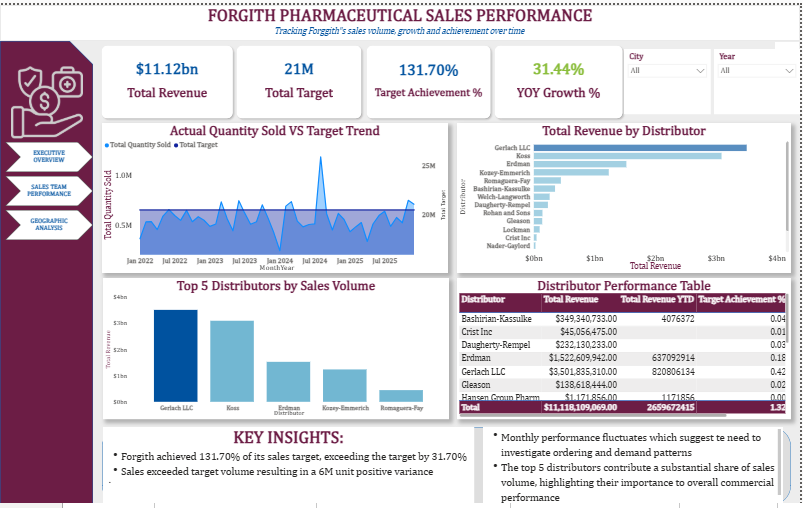

This screenshot's page, from the dashboard's own definition file:
{"tool":"powerbi","page":{"name":"SALES PERFORMANCE","canvas":[2000,1250],"ordinal":1},"visuals":[{"type":"textbox","box":[0,0,2000,90],"z":0},{"type":"shape","box":[0,90,232.5,1160],"z":1000},{"type":"pageNavigator","box":[12.5,342.5,220,245],"z":2000},{"type":"cardVisual","fields":{"Data":["MEASURES OVERVIEW.Total Revenue"]},"box":[224,72,386,240],"z":3000},{"type":"cardVisual","fields":{"Data":["MEASURES OVERVIEW.Total Target"]},"box":[562,72,370,240],"z":4000},{"type":"cardVisual","fields":{"Data":["MEASURES OVERVIEW.YOY Growth %"]},"box":[1208,72,378,240],"z":5000},{"type":"cardVisual","fields":{"Data":["MEASURES OVERVIEW.Target Achievement %"]},"box":[888,72,368,240],"z":6000},{"type":"lineChart","title":"Actual Quantity Sold VS Target Trend","fields":{"Category":["Sales Fact Table.MonthYear"],"Y":["MEASURES OVERVIEW.Total Quantity Sold"],"Y2":["MEASURES OVERVIEW.Total Target"]},"box":[255,295,865,375],"z":7000},{"type":"barChart","fields":{"Y":["MEASURES OVERVIEW.Total Revenue"],"Category":["Sales Fact Table.Distributor"]},"box":[1142.5,295,835,375],"z":8000},{"type":"columnChart","title":"Top 5 Distributors by Sales Volume","fields":{"Y":["MEASURES OVERVIEW.Total Revenue"],"Category":["Sales Fact Table.Distributor"]},"box":[257.5,682.5,865,352.5],"z":9000},{"type":"tableEx","title":"Distributor Performance Table","fields":{"Values":["Sales Fact Table.Distributor","MEASURES OVERVIEW.Total Revenue","MEASURES OVERVIEW.Total Revenue YTD","MEASURES OVERVIEW.Target Achievement %","MEASURES OVERVIEW.Revenue Growth"]},"box":[1142.5,682.5,835,352.5],"z":10000},{"type":"shape","box":[255,1055,1722.5,195],"z":11000},{"type":"textbox","box":[257.5,1055,927.5,195],"z":12000},{"type":"textbox","box":[1207.5,1055,750,195],"z":13000},{"type":"slicer","fields":{"Values":["DateTable.Year"]},"box":[1785,110,215,162.5],"z":14000},{"type":"slicer","fields":{"Values":["DimLocation.City"]},"box":[1560,110,217,162.5],"z":15000},{"type":"image","box":[27.5,122.5,180,242.5],"z":16000}]}

Visuals, with their boxes in screenshot pixels (x1, y1, x2, y2), scaled from the page's 2000x1250 canvas onto the 803x508 screenshot:
textbox: region(0, 0, 802, 37)
shape: region(0, 37, 93, 507)
pageNavigator: region(5, 139, 93, 239)
cardVisual - MEASURES OVERVIEW.Total Revenue: region(90, 29, 245, 127)
cardVisual - MEASURES OVERVIEW.Total Target: region(226, 29, 374, 127)
cardVisual - MEASURES OVERVIEW.YOY Growth %: region(485, 29, 637, 127)
cardVisual - MEASURES OVERVIEW.Target Achievement %: region(357, 29, 504, 127)
"Actual Quantity Sold VS Target Trend" lineChart: region(102, 120, 450, 272)
barChart - MEASURES OVERVIEW.Total Revenue x Sales Fact Table.Distributor: region(459, 120, 794, 272)
"Top 5 Distributors by Sales Volume" columnChart: region(103, 277, 451, 421)
"Distributor Performance Table" tableEx: region(459, 277, 794, 421)
shape: region(102, 429, 794, 507)
textbox: region(103, 429, 476, 507)
textbox: region(485, 429, 786, 507)
slicer - DateTable.Year: region(717, 45, 802, 111)
slicer - DimLocation.City: region(626, 45, 713, 111)
image: region(11, 50, 83, 148)
